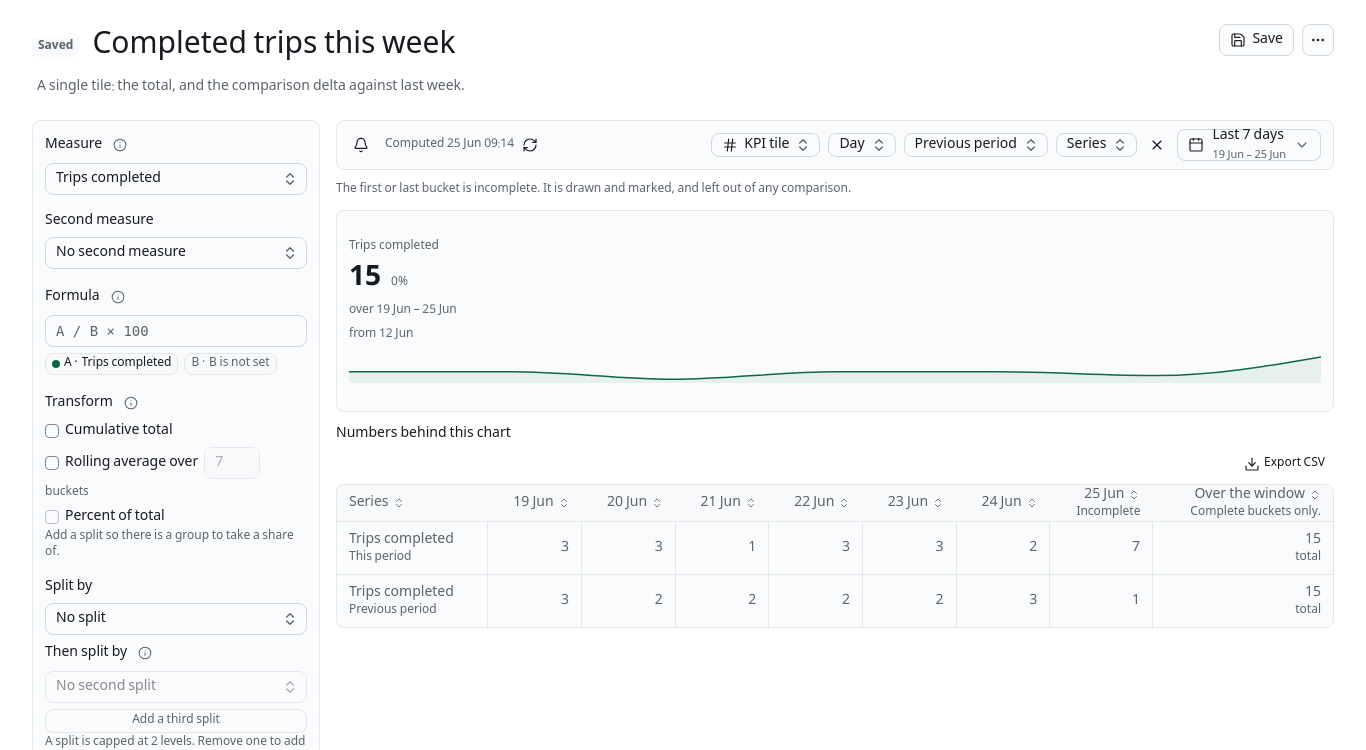
AC-1162 — Version history › lists the last saves and Restore loads the query into the draft without saving
What coordinates should you click on to do the following:
click the button named "More actions"
I would click on:
 (1318, 40)
Its box is x1=1302 y1=24 x2=1334 y2=56.
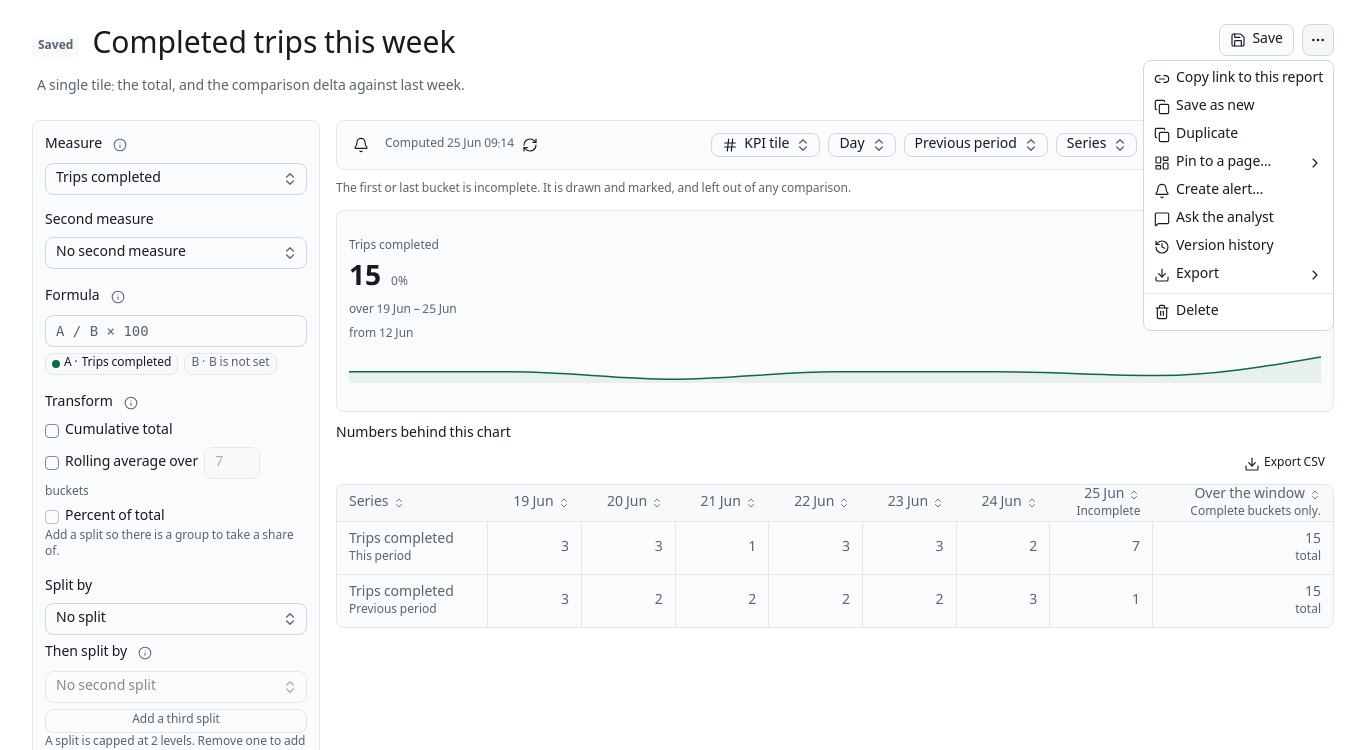
What coordinates should you click on to do the following:
click the menu item "Version history"
I would click on:
 (1214, 247)
Its box is x1=1154 y1=235 x2=1274 y2=259.
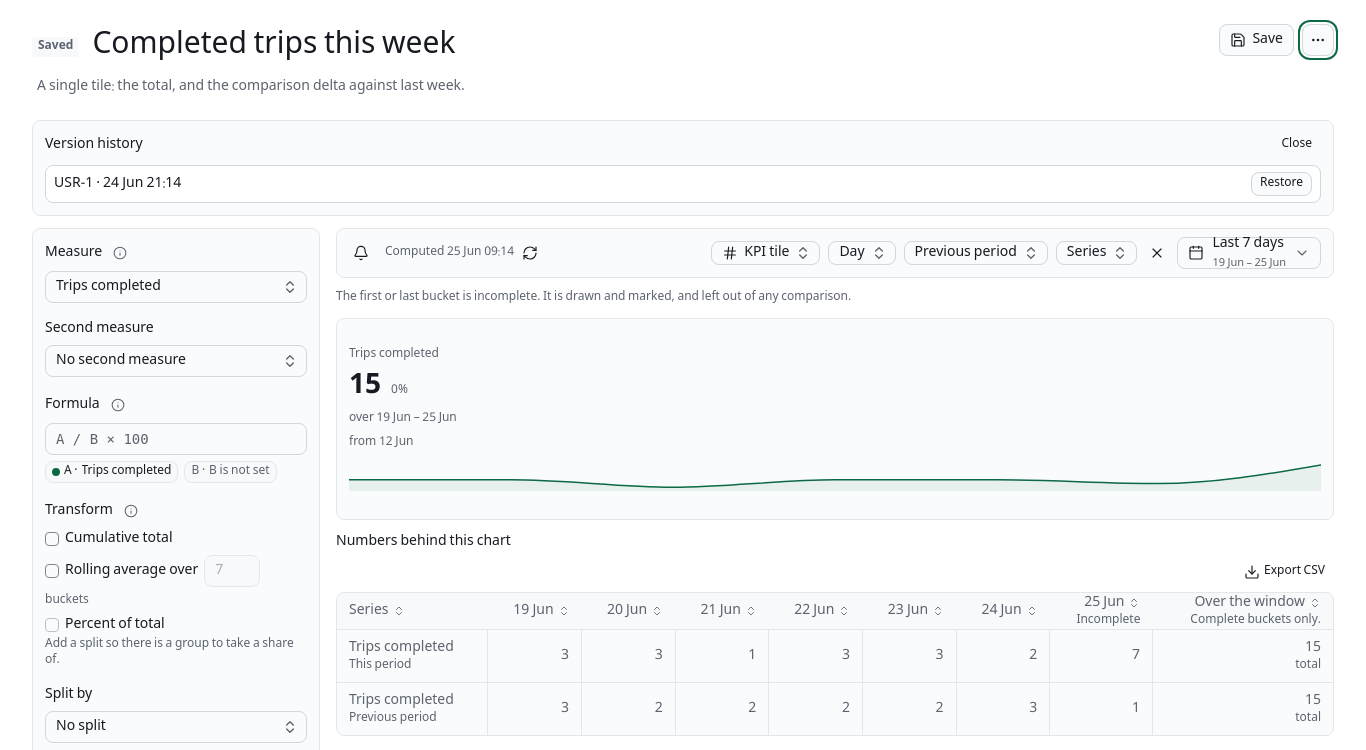
Now the heading "Version history" is shown, box x1=45 y1=135 x2=143 y2=155
What coordinates should you click on to do the following:
click the button "Restore"
I would click on:
 (1281, 184)
Its box is x1=1251 y1=172 x2=1312 y2=196.
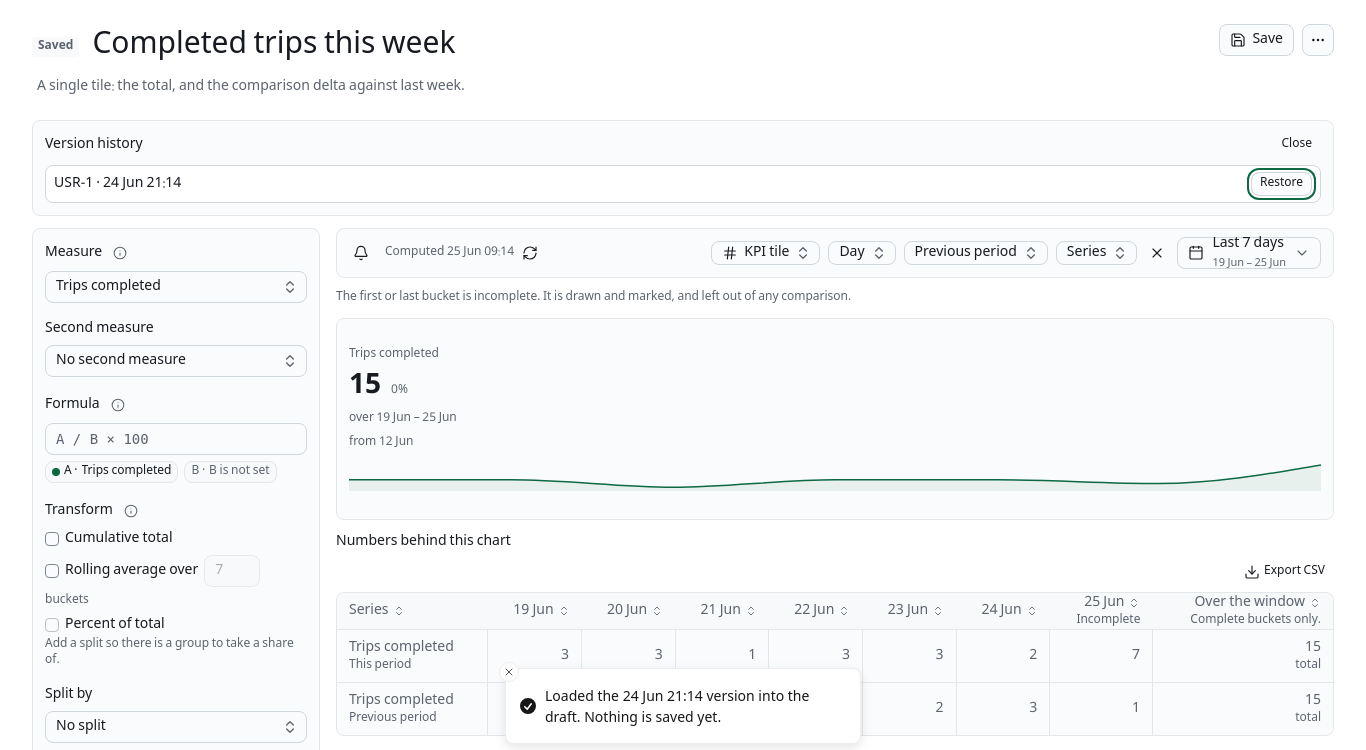
Now the text "Loaded the " is shown, box x1=545 y1=686 x2=809 y2=726
